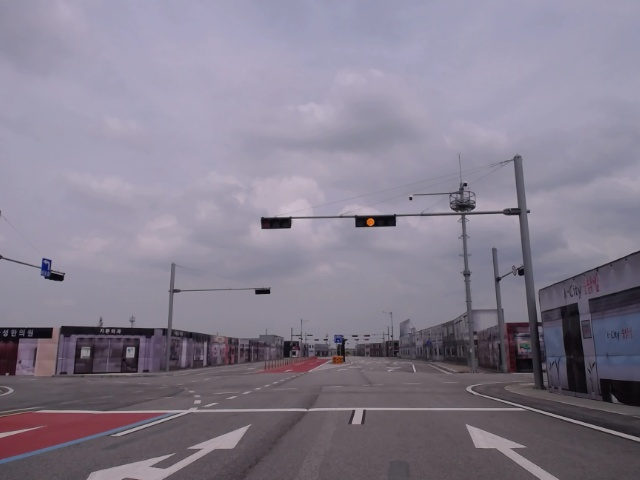orange_4: (355, 216, 398, 229)
